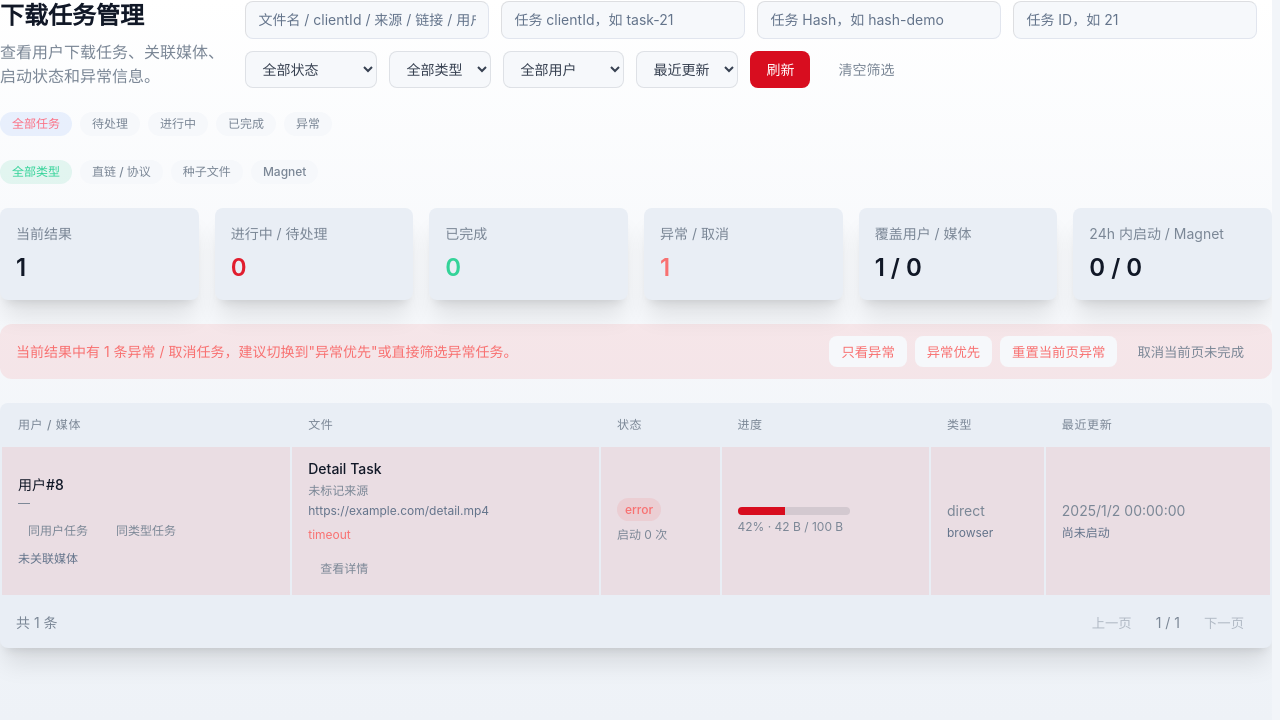
Test: AdminDownloadTasksView › shows task details panel with metadata and error information
Click the button with class "task-detail-toggle": (344,569) [308,555,380,583]
(page scrolled)
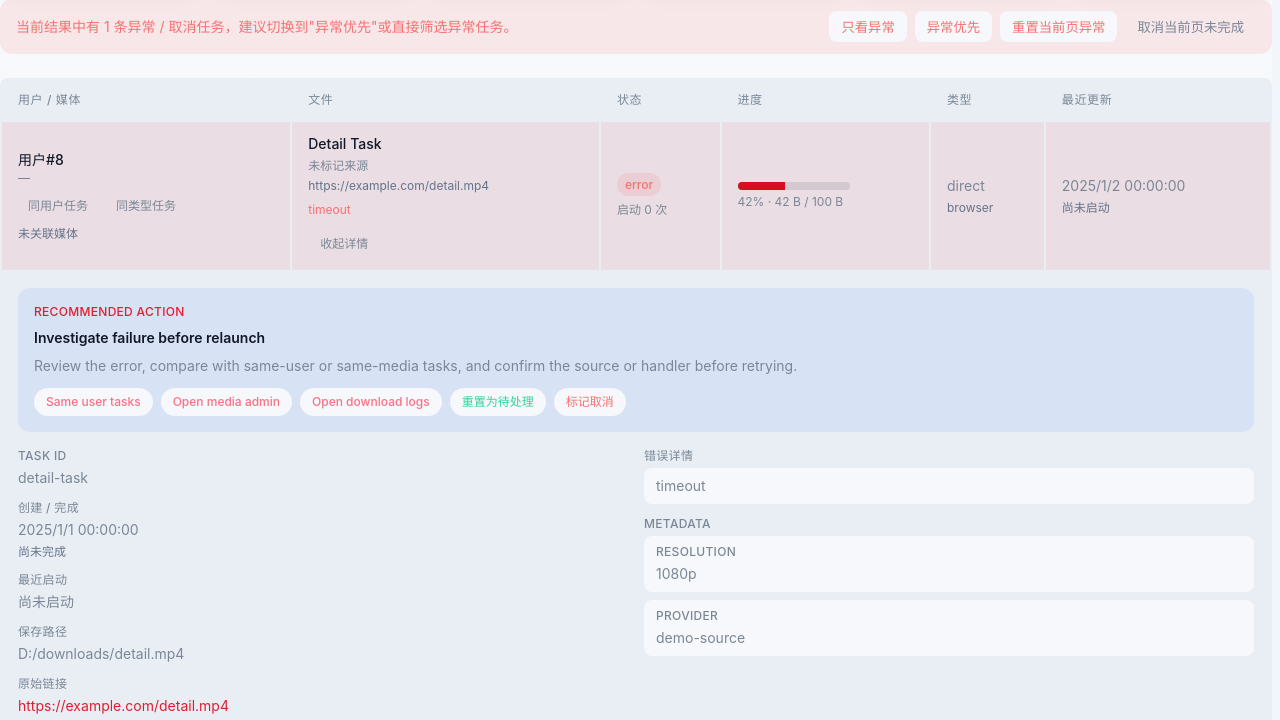
Check: the element with class "task-detail-panel" is shown, box [18,288,1254,716]
Check: the element with test id "task-recommendation" shows "Investigate failure before relaunch", box [34,329,265,346]
Check: the text "detail-task" is shown, box [18,469,88,486]
